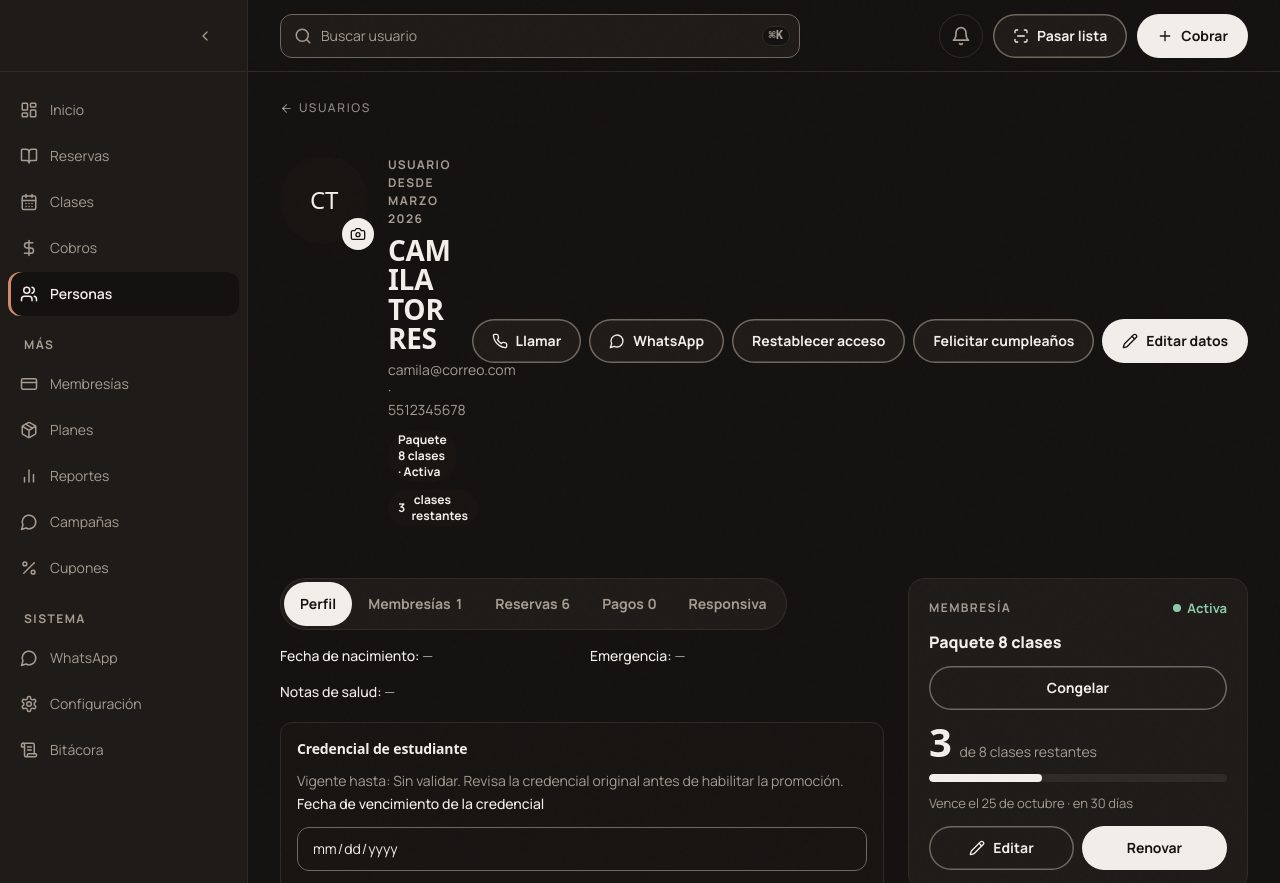
Test case: Ficha de usuario › Editar datos abre el panel de edición
The image size is (1280, 883).
Click the button "Editar datos" at [1175, 341], box [1102,319,1248,363]
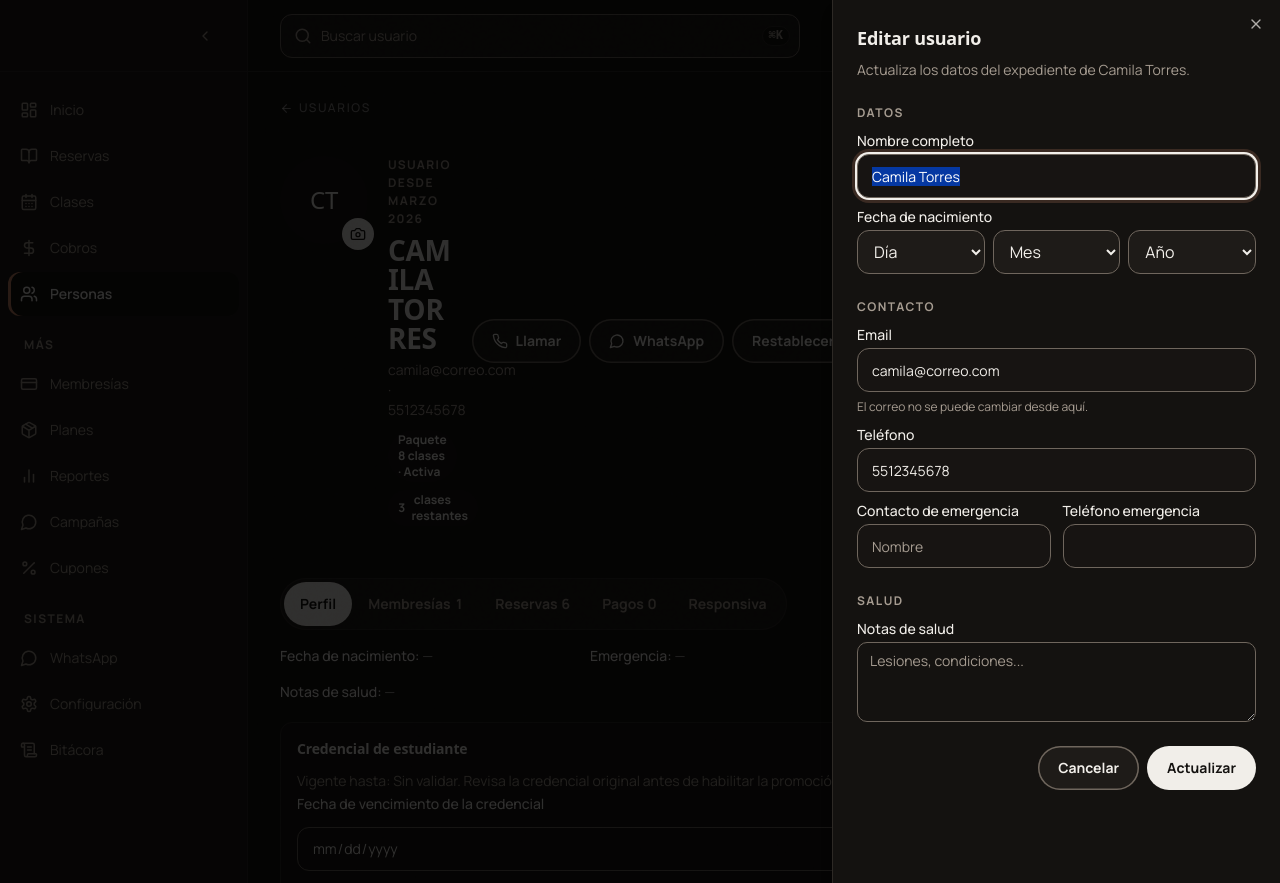
Now the heading "Editar usuario" is shown, box [857,26,981,50]
